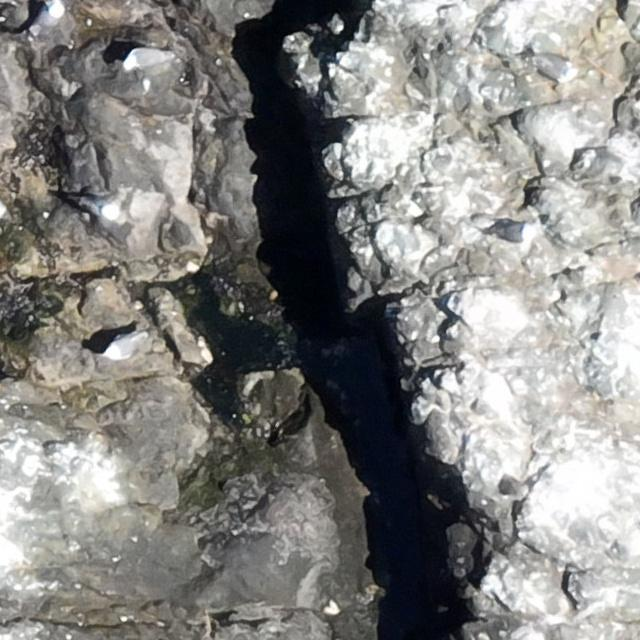umineko: (531, 51, 577, 81), (70, 194, 123, 220), (124, 47, 172, 72), (102, 335, 147, 361), (34, 5, 63, 31), (492, 224, 532, 241)
